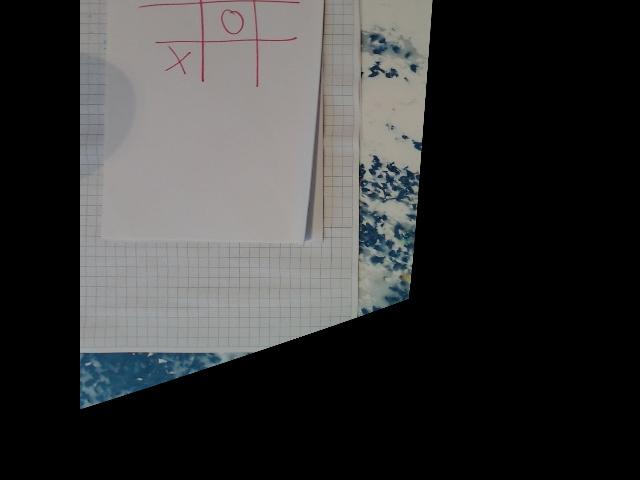O: (220, 5, 246, 36)
X: (162, 46, 194, 80)
grid: (141, 0, 301, 90)
